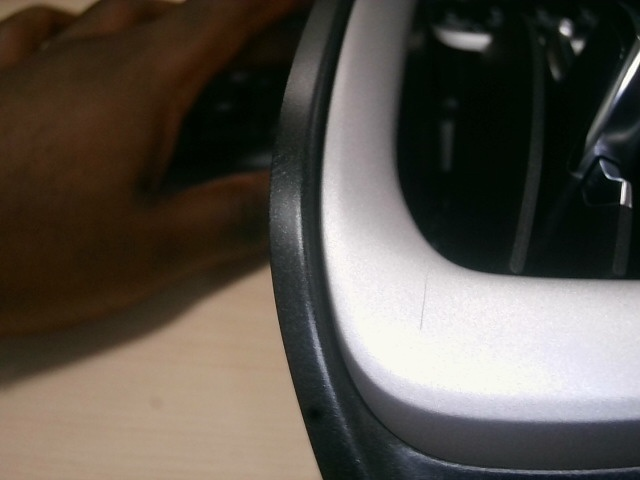NG: (411, 276, 446, 338), (272, 147, 296, 195)
